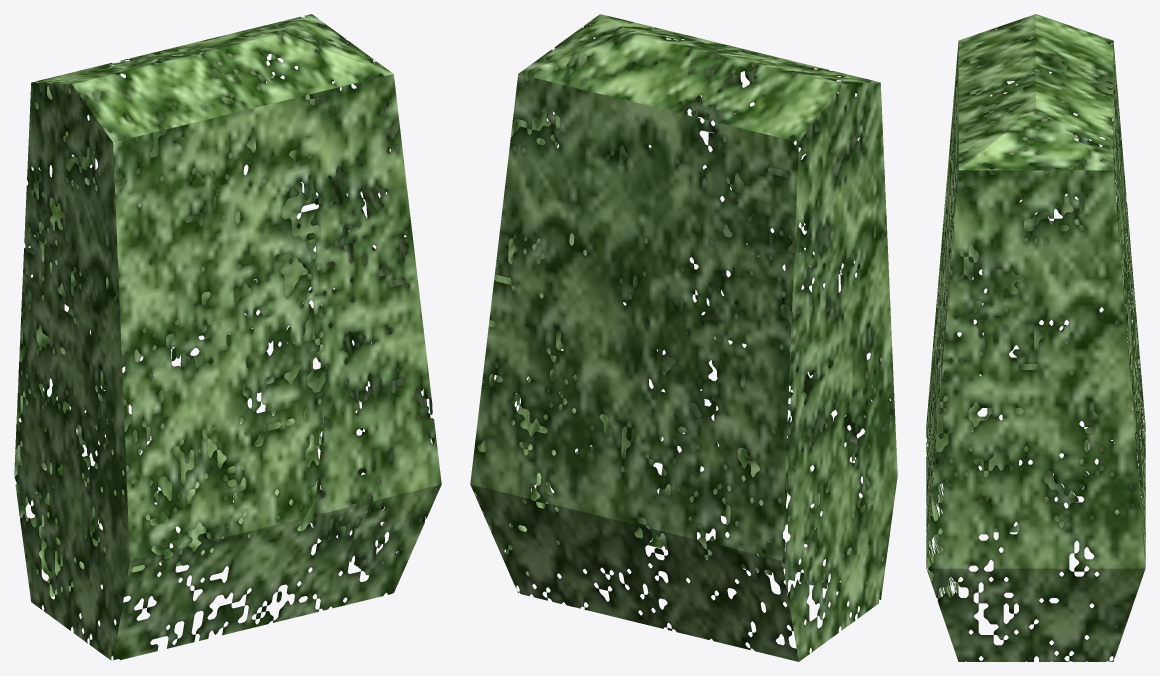
File: bush_tall_half_open_right_summer.fbx
The picture shows the model from 3 angles, left to right: view 1: azimuth 30°, elevation 25°; view 2: azimuth 150°, elevation 25°; view 3: azimuth 270°, elevation 25°; orthographic projection. The views are drawn at different scales.
Visible parts, largest first — view 1: bush_tall_half_open_right_summer; view 2: bush_tall_half_open_right_summer; view 3: bush_tall_half_open_right_summer.
Part boxes in pixels (x1,y1,x2,y2): bush_tall_half_open_right_summer: (14,14,441,660); bush_tall_half_open_right_summer: (470,14,897,661); bush_tall_half_open_right_summer: (926,14,1145,661).
Size of the model in its own units: 112 by 188 by 71.91.
1 material, 1 textured.
